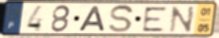4: (24, 4, 46, 33)
8: (50, 4, 71, 34)
A: (77, 5, 107, 33)
E: (142, 6, 169, 33)
N: (168, 5, 197, 34)
S: (108, 4, 135, 34)
